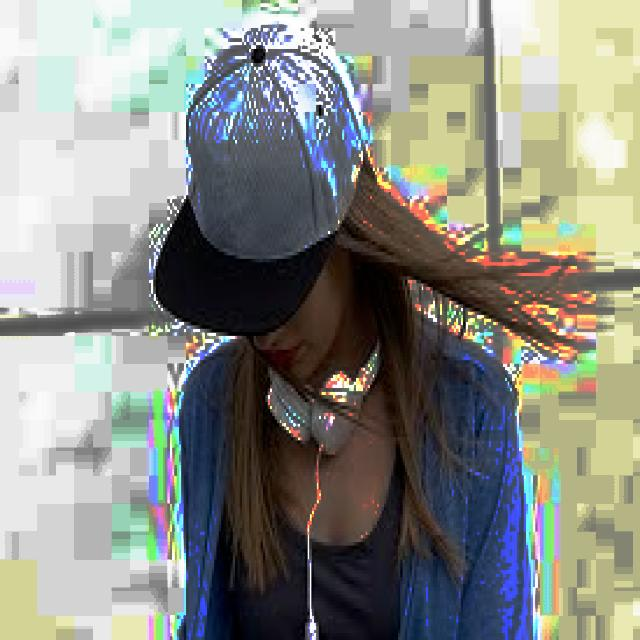TOPI: (146, 11, 368, 339)
